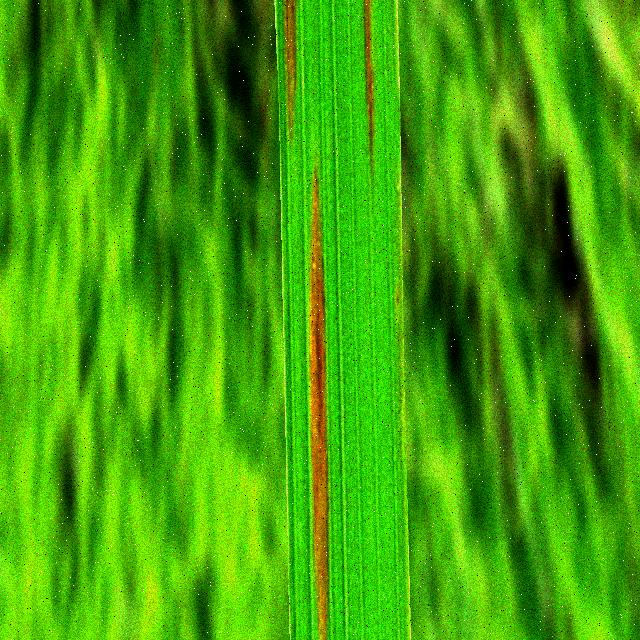NBS: (310, 171, 328, 640), (363, 0, 374, 168), (283, 0, 296, 134)
